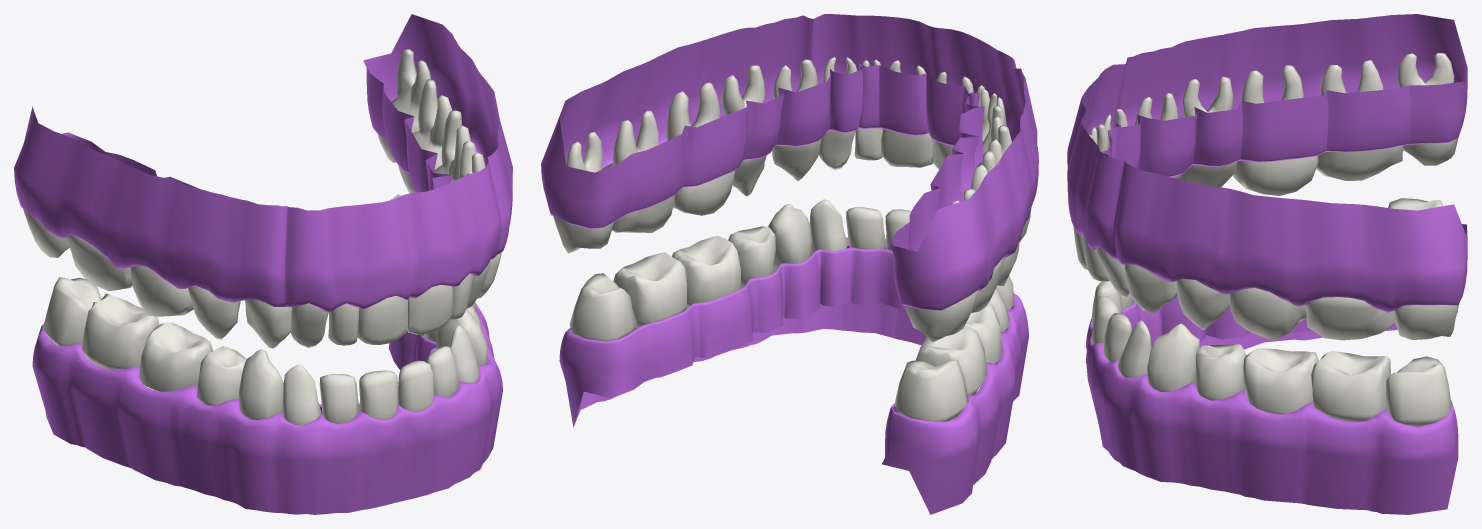
File: Teeth.fbx
The picture shows the model from 3 angles, left to right: view 1: azimuth 30°, elevation 25°; view 2: azimuth 150°, elevation 25°; view 3: azimuth 270°, elevation 25°; orthographic projection.
Parts seen in each view (by area): view 1: pasted__polySurface154; view 2: pasted__polySurface154; view 3: pasted__polySurface154.
Boxes of the visible parts, x1=… form: pasted__polySurface154: x1=14, y1=14, x2=512, y2=514; pasted__polySurface154: x1=541, y1=14, x2=1038, y2=514; pasted__polySurface154: x1=1067, y1=14, x2=1467, y2=514.
Bounding box in the file's own units: 1.38 × 0.957 × 1.11.
